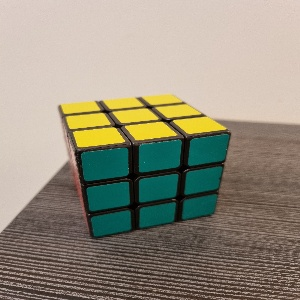cube: (59, 94, 233, 239)
